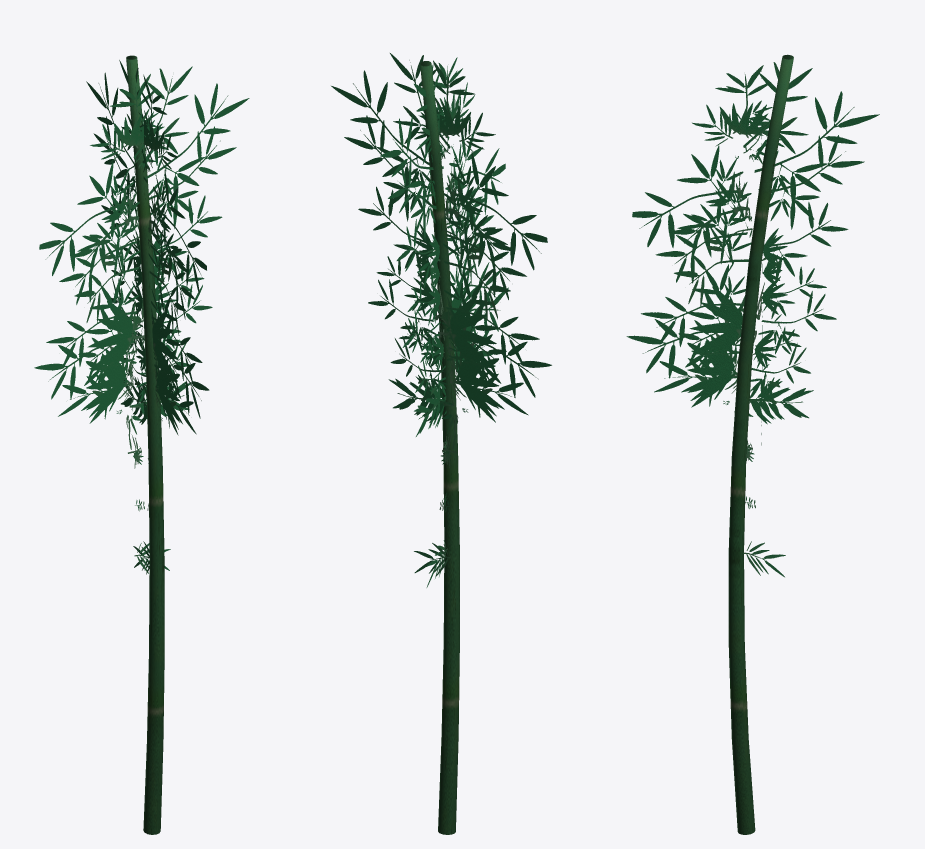
The model's file is BAMBU OTIMAZADO2.fbx.
The picture shows the model from 3 angles, left to right: view 1: azimuth 30°, elevation 25°; view 2: azimuth 150°, elevation 25°; view 3: azimuth 270°, elevation 25°; orthographic projection. The views are drawn at different scales.
Visible parts, largest first — view 1: BAMBU_LOD0; view 2: BAMBU_LOD0; view 3: BAMBU_LOD0.
Part boxes in pixels (<box>): BAMBU_LOD0: <box>34,55,249,834</box>; BAMBU_LOD0: <box>331,53,551,834</box>; BAMBU_LOD0: <box>626,54,879,834</box>.
Size of what is drawn, in the model's own units: 333 by 926 by 333.
